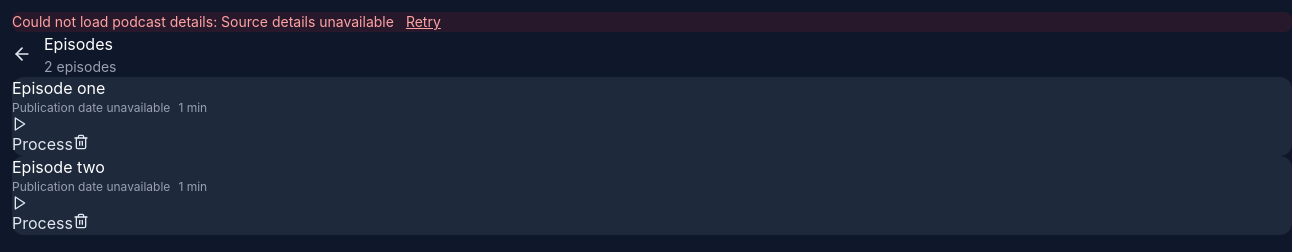
Test: can retry failed source details while keeping the loaded episode list
The image size is (1292, 252).
Expected: the button "Process" below "Episode one" is disabled, 12,116 -> 73,156
Expected: the message "Could not load podcast details: Source details unavailable Retry" is shown, 12,12 -> 1291,32
Click the button "Retry" at (423, 22), box 406,12 -> 441,32
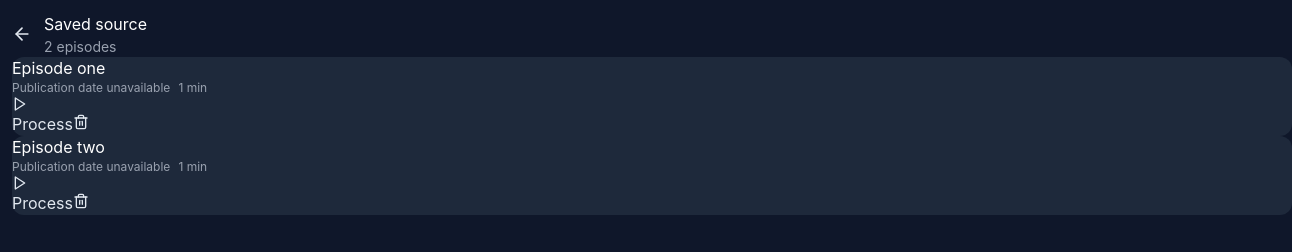
Now the button "Process" below "Episode one" is enabled, box 12,96 -> 73,136
